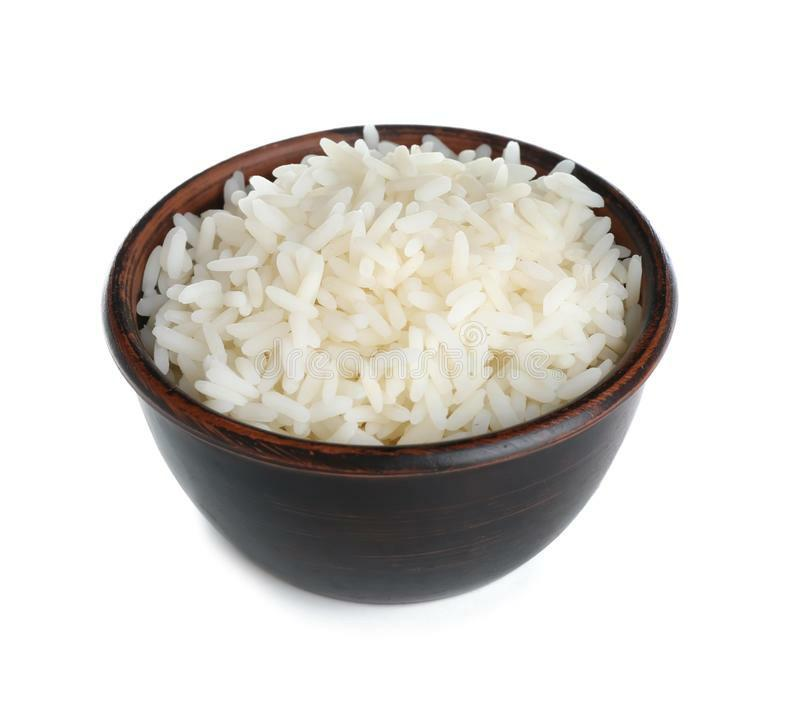WhiteRice: (139, 122, 640, 447)
